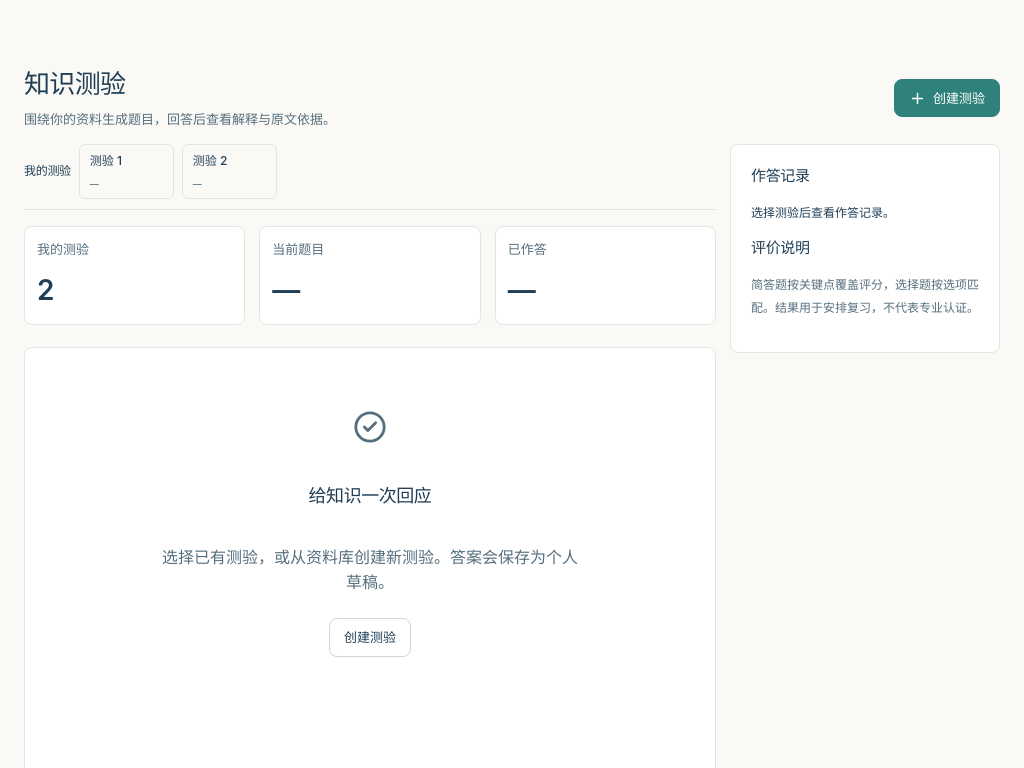
Scenario: draft failure is retryable without a perpetual loading state or loss of valid history
Click the button "测验 1 —" at (126, 172), box [79, 144, 174, 199]
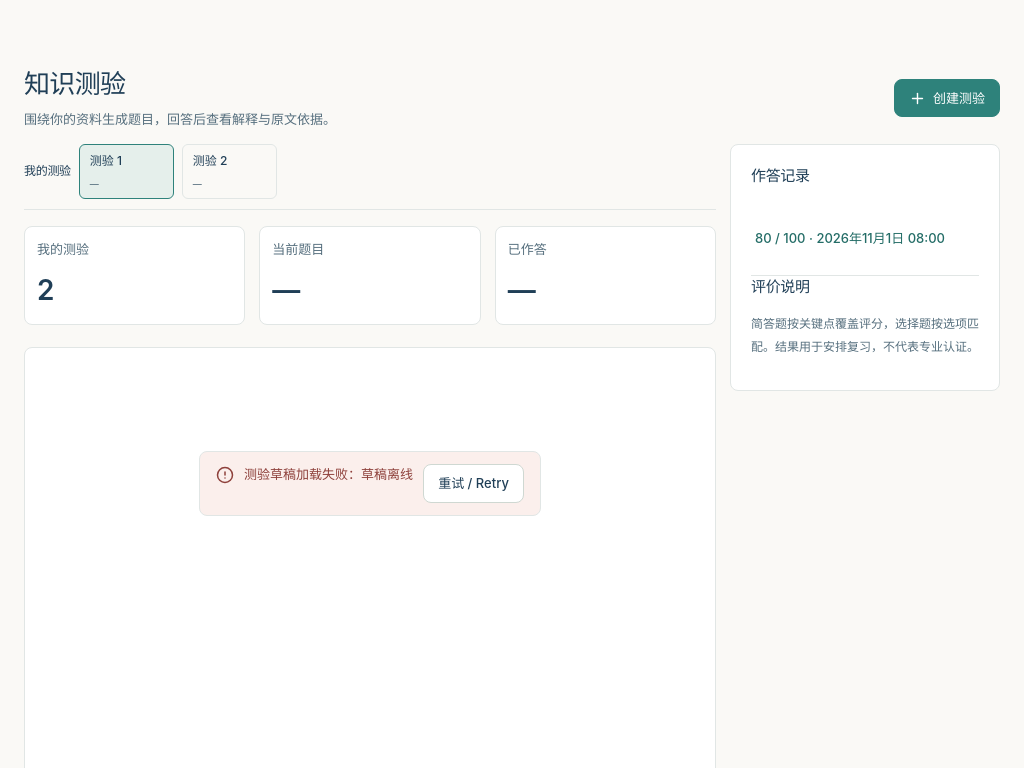
Result: the text "测验草稿加载失败：草稿离线" is shown at [244, 464, 413, 485]
Result: the button "80 / 100 · 2026年11月1日 08:00" is shown at [751, 218, 949, 259]
Click the button "重试 / Retry" at (474, 483), box [423, 464, 524, 503]
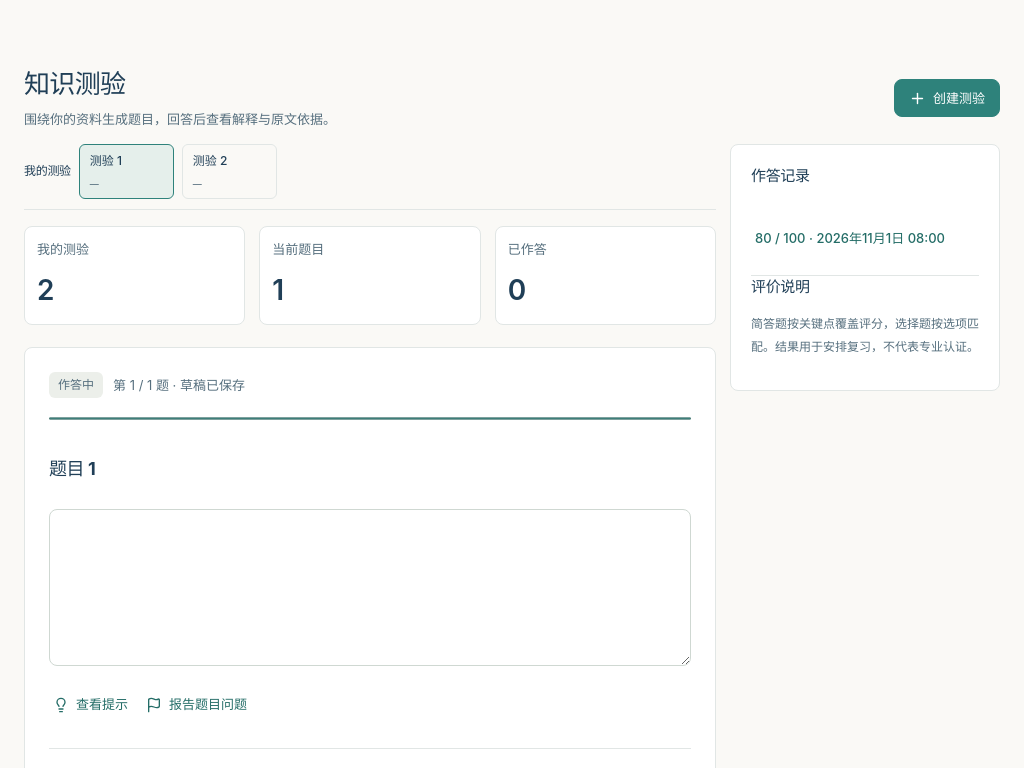
Result: the text box named "你的答案" is shown at [49, 509, 691, 666]
